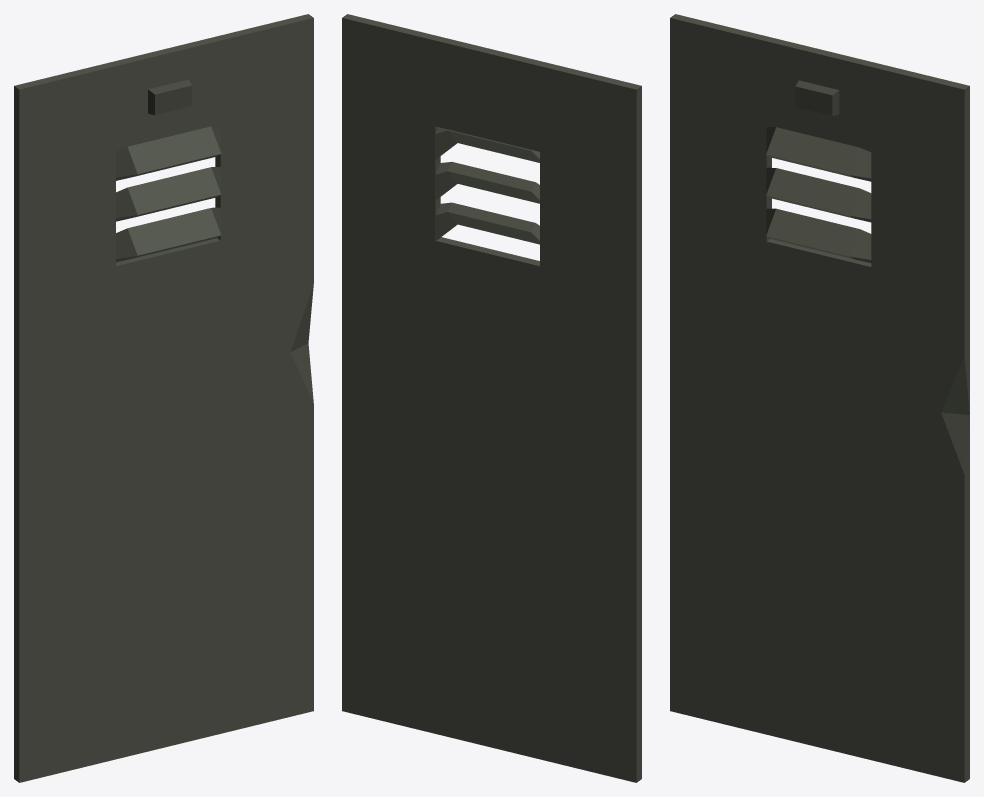
Rendered from SM_Prop_Lockers_Door_01.glb.
3 renders of one model, left to right at view 1: azimuth 30°, elevation 25°; view 2: azimuth 150°, elevation 25°; view 3: azimuth 330°, elevation 25°, orthographic.
Visible parts, largest first — view 1: SM_Prop_Lockers_Door_01; view 2: SM_Prop_Lockers_Door_01; view 3: SM_Prop_Lockers_Door_01.
Part boxes in pixels (<box>): SM_Prop_Lockers_Door_01: <box>14,14,313,782</box>; SM_Prop_Lockers_Door_01: <box>342,14,641,782</box>; SM_Prop_Lockers_Door_01: <box>670,14,969,782</box>.
Size of the model in its own units: 0.6028 by 1.36 by 0.0583.
1 material, 1 textured.
